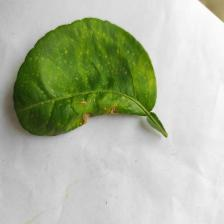canker: (44, 61, 122, 128)
